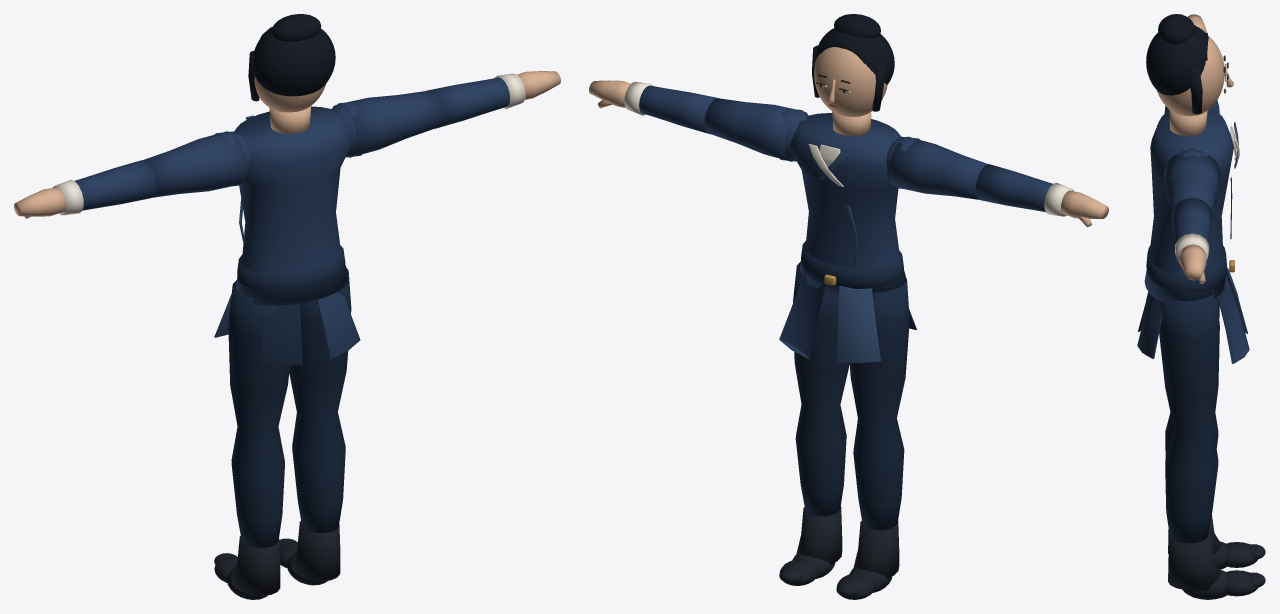
The model's file is cultivator_shortcoat_v2.glb.
The picture shows the model from 3 angles, left to right: view 1: azimuth 30°, elevation 25°; view 2: azimuth 150°, elevation 25°; view 3: azimuth 270°, elevation 25°; orthographic projection. The views are drawn at different scales.
Visible parts, largest first — view 1: Tunic_Body.001, Trouser_R.001, Trouser_L.001, Fitted_Sleeve_R.001, Fitted_Sleeve_L.001, Hair_Crown.001, Boot_Heel_L.001, Boot_Heel_R.001, Back_Panel_R.001, Layered_Sash.001, Back_Panel_L.001, Hand_R.001 (+4 smaller); view 2: Tunic_Body.001, Trouser_R.001, Trouser_L.001, Fitted_Sleeve_R.001, Fitted_Sleeve_L.001, Head_Face.001, Front_Panel_R.001, Boot_Heel_L.001, Boot_Heel_R.001, Layered_Sash.001, Front_Panel_L.001, Hair_Crown.001 (+6 smaller); view 3: Trouser_L.001, Tunic_Body.001, Fitted_Sleeve_L.001, Boot_Heel_L.001, Hair_Crown.001, Head_Face.001, Layered_Sash.001, Front_Panel_L.001, Back_Panel_L.001, Hair_Topknot.001, Boot_Toe_L.001, Boot_Toe_R.001 (+7 smaller).
Boxes of the visible parts, x1=… form: Tunic_Body.001: x1=234, y1=106, x2=352, y2=305; Trouser_R.001: x1=228, y1=280, x2=289, y2=547; Trouser_L.001: x1=289, y1=268, x2=351, y2=533; Fitted_Sleeve_R.001: x1=75, y1=131, x2=249, y2=210; Fitted_Sleeve_L.001: x1=332, y1=77, x2=509, y2=157; Hair_Crown.001: x1=253, y1=28, x2=335, y2=96; Boot_Heel_L.001: x1=287, y1=521, x2=340, y2=585; Boot_Heel_R.001: x1=226, y1=536, x2=280, y2=599; Back_Panel_R.001: x1=258, y1=303, x2=302, y2=365; Layered_Sash.001: x1=237, y1=245, x2=345, y2=290; Back_Panel_L.001: x1=316, y1=292, x2=360, y2=359; Hand_R.001: x1=14, y1=187, x2=65, y2=218; Tunic_Body.001: x1=788, y1=113, x2=905, y2=297; Trouser_R.001: x1=849, y1=278, x2=909, y2=530; Trouser_L.001: x1=793, y1=261, x2=849, y2=516; Fitted_Sleeve_R.001: x1=886, y1=136, x2=1052, y2=211; Fitted_Sleeve_L.001: x1=639, y1=85, x2=808, y2=161; Head_Face.001: x1=814, y1=47, x2=887, y2=116; Front_Panel_R.001: x1=836, y1=286, x2=880, y2=363; Boot_Heel_L.001: x1=792, y1=506, x2=842, y2=578; Boot_Heel_R.001: x1=849, y1=520, x2=899, y2=592; Layered_Sash.001: x1=801, y1=241, x2=903, y2=288; Front_Panel_L.001: x1=779, y1=272, x2=825, y2=358; Hair_Crown.001: x1=816, y1=28, x2=894, y2=84; Trouser_L.001: x1=1159, y1=294, x2=1219, y2=543; Tunic_Body.001: x1=1144, y1=108, x2=1233, y2=304; Fitted_Sleeve_L.001: x1=1164, y1=148, x2=1220, y2=242; Boot_Heel_L.001: x1=1168, y1=532, x2=1227, y2=599; Hair_Crown.001: x1=1146, y1=25, x2=1206, y2=95; Head_Face.001: x1=1156, y1=36, x2=1224, y2=116; Layered_Sash.001: x1=1146, y1=246, x2=1226, y2=292; Front_Panel_L.001: x1=1216, y1=275, x2=1249, y2=363; Back_Panel_L.001: x1=1137, y1=295, x2=1162, y2=358; Hair_Topknot.001: x1=1158, y1=14, x2=1195, y2=43; Boot_Toe_L.001: x1=1225, y1=570, x2=1265, y2=596; Boot_Toe_R.001: x1=1225, y1=542, x2=1265, y2=567.
Bounding box in the file's own units: 1.67 × 1.73 × 0.3559.
